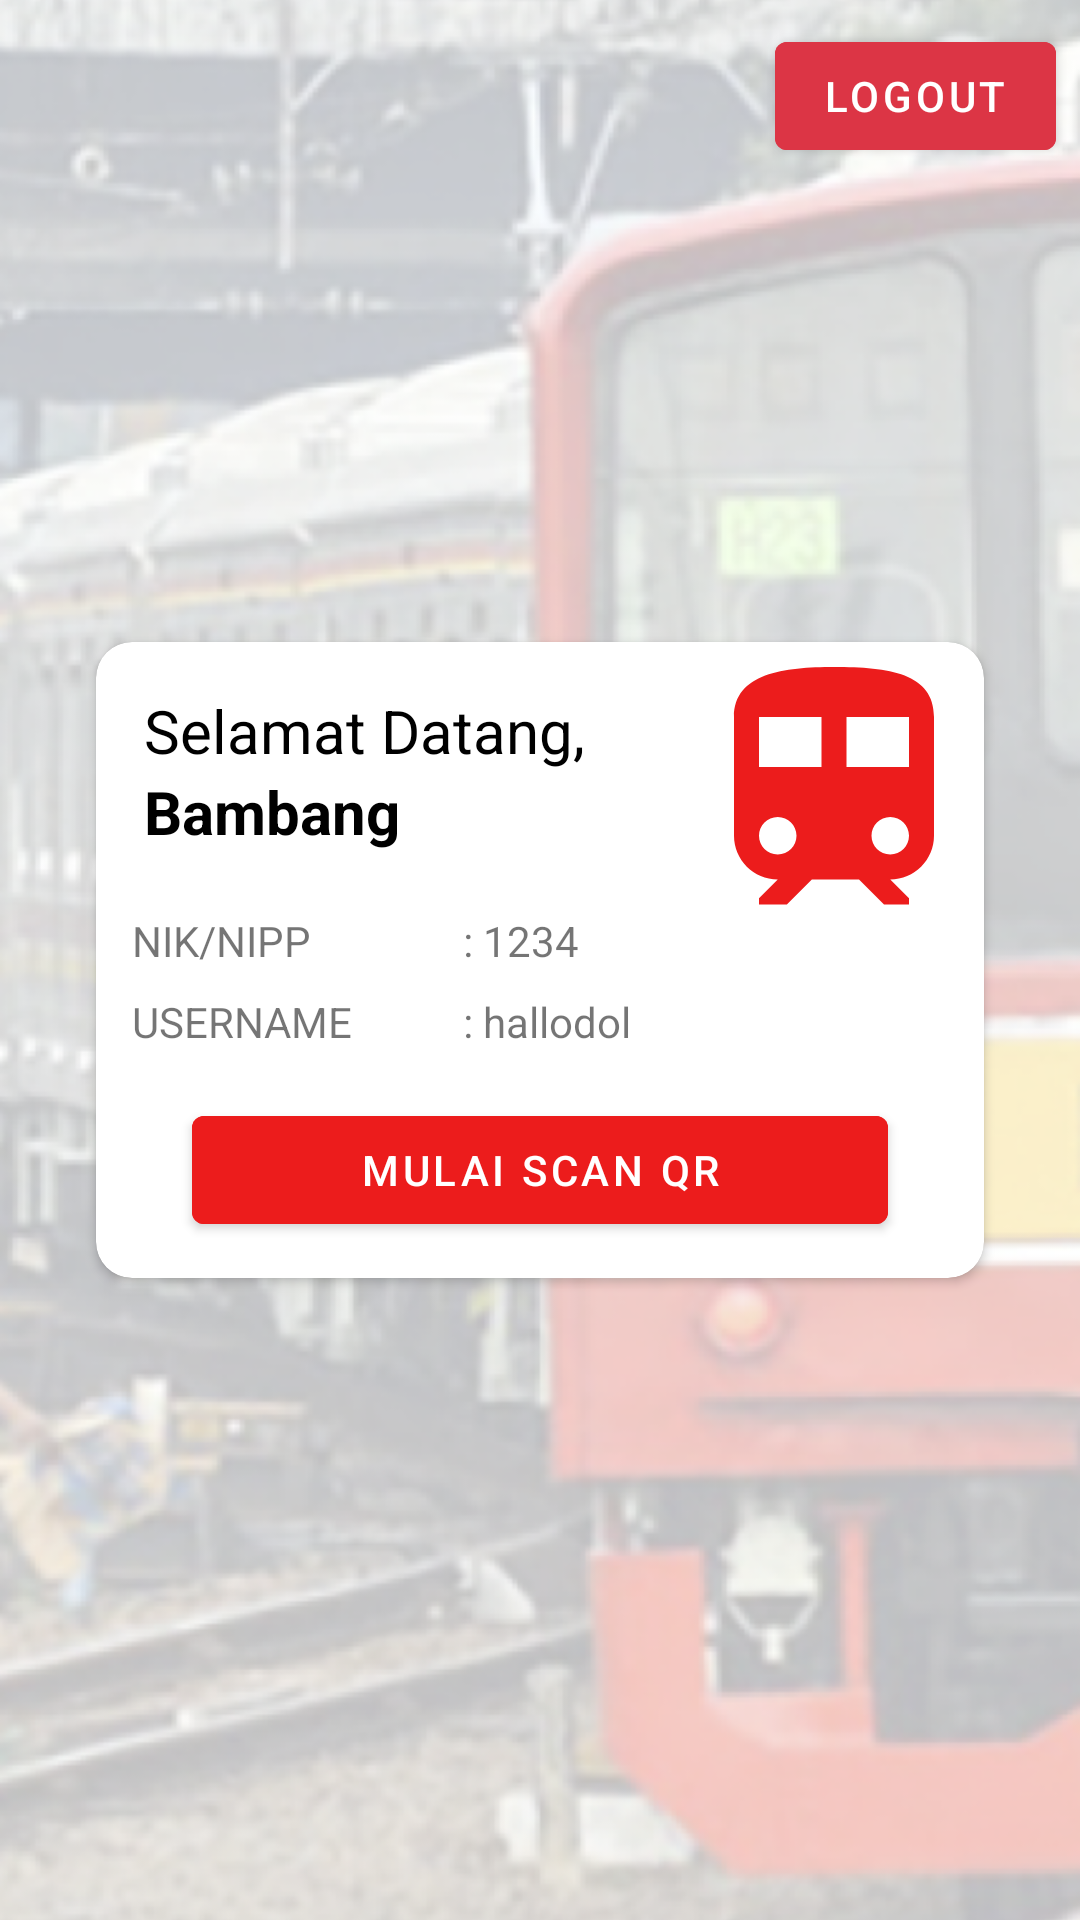

Locate icon controls on the screen. Image size 1080x1920, boxes as box=[x1, y1, x2, y2].
train: box=[734, 667, 934, 905]
